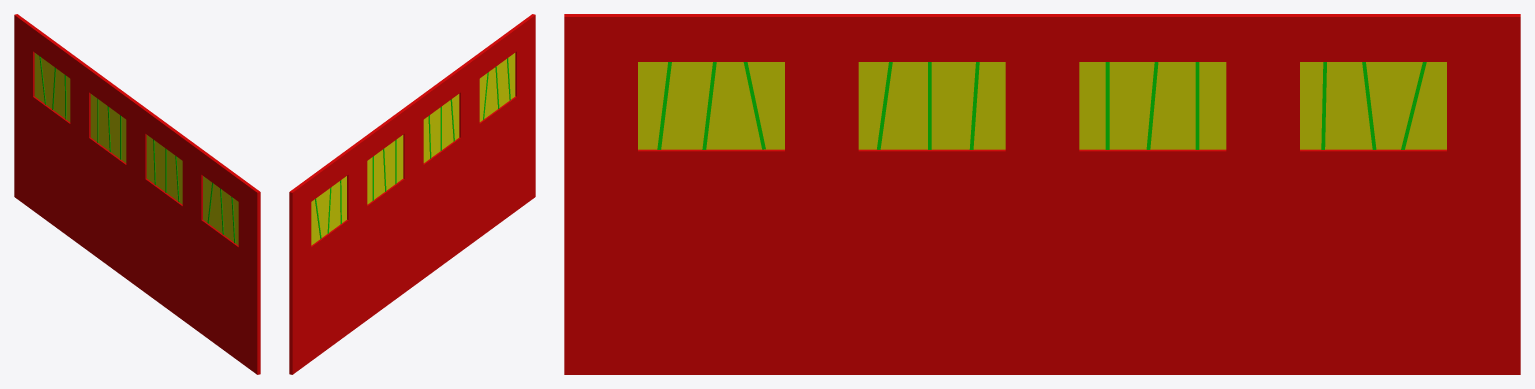
The model's file is factory_wall_04.fbx.
3 renders of one model, left to right at view 1: azimuth 30°, elevation 25°; view 2: azimuth 150°, elevation 25°; view 3: azimuth 270°, elevation 25°, orthographic. The views are drawn at different scales.
Visible parts, largest first — view 1: wall_01, windowpanels, windowframes; view 2: wall_01, windowpanels, windowframes; view 3: wall_01, windowpanels, windowframes.
Boxes of the visible parts, x1,y1,x2,y2 form: wall_01: (14, 14, 260, 374); windowpanels: (34, 53, 238, 245); windowframes: (39, 56, 235, 242); wall_01: (289, 14, 535, 374); windowpanels: (311, 53, 515, 245); windowframes: (315, 58, 510, 239); wall_01: (564, 14, 1520, 374); windowpanels: (638, 62, 1446, 149); windowframes: (657, 62, 1426, 149).
Size of the model in its own units: 0.5 by 26.36 by 63.82.
